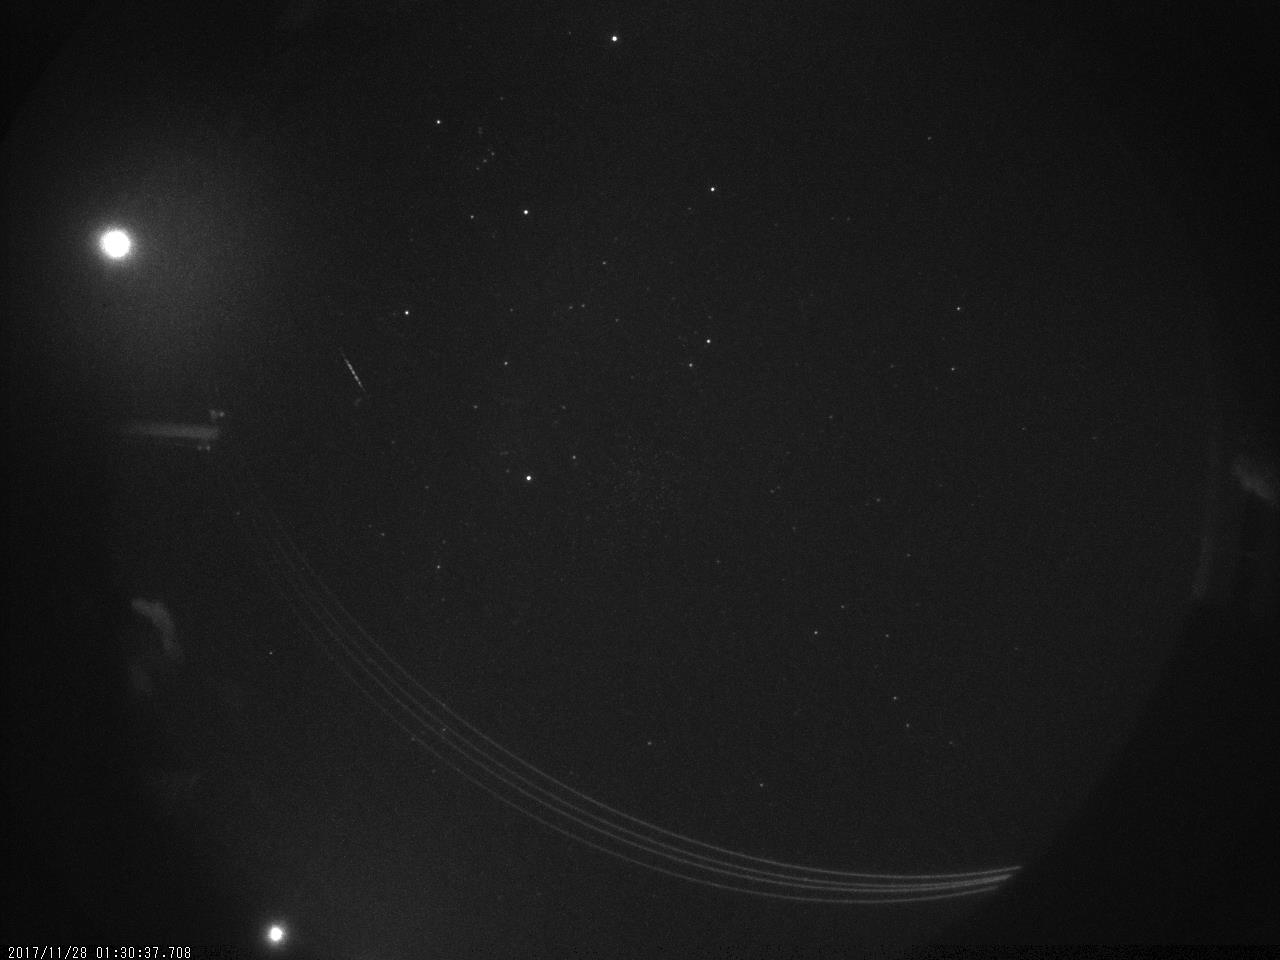meteor: (331, 346, 372, 398)
